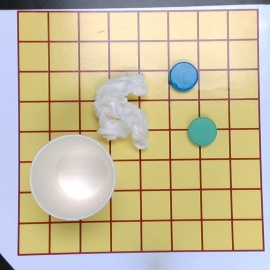blue: (29, 134, 118, 221), (169, 61, 198, 90)
green: (187, 117, 216, 147)
